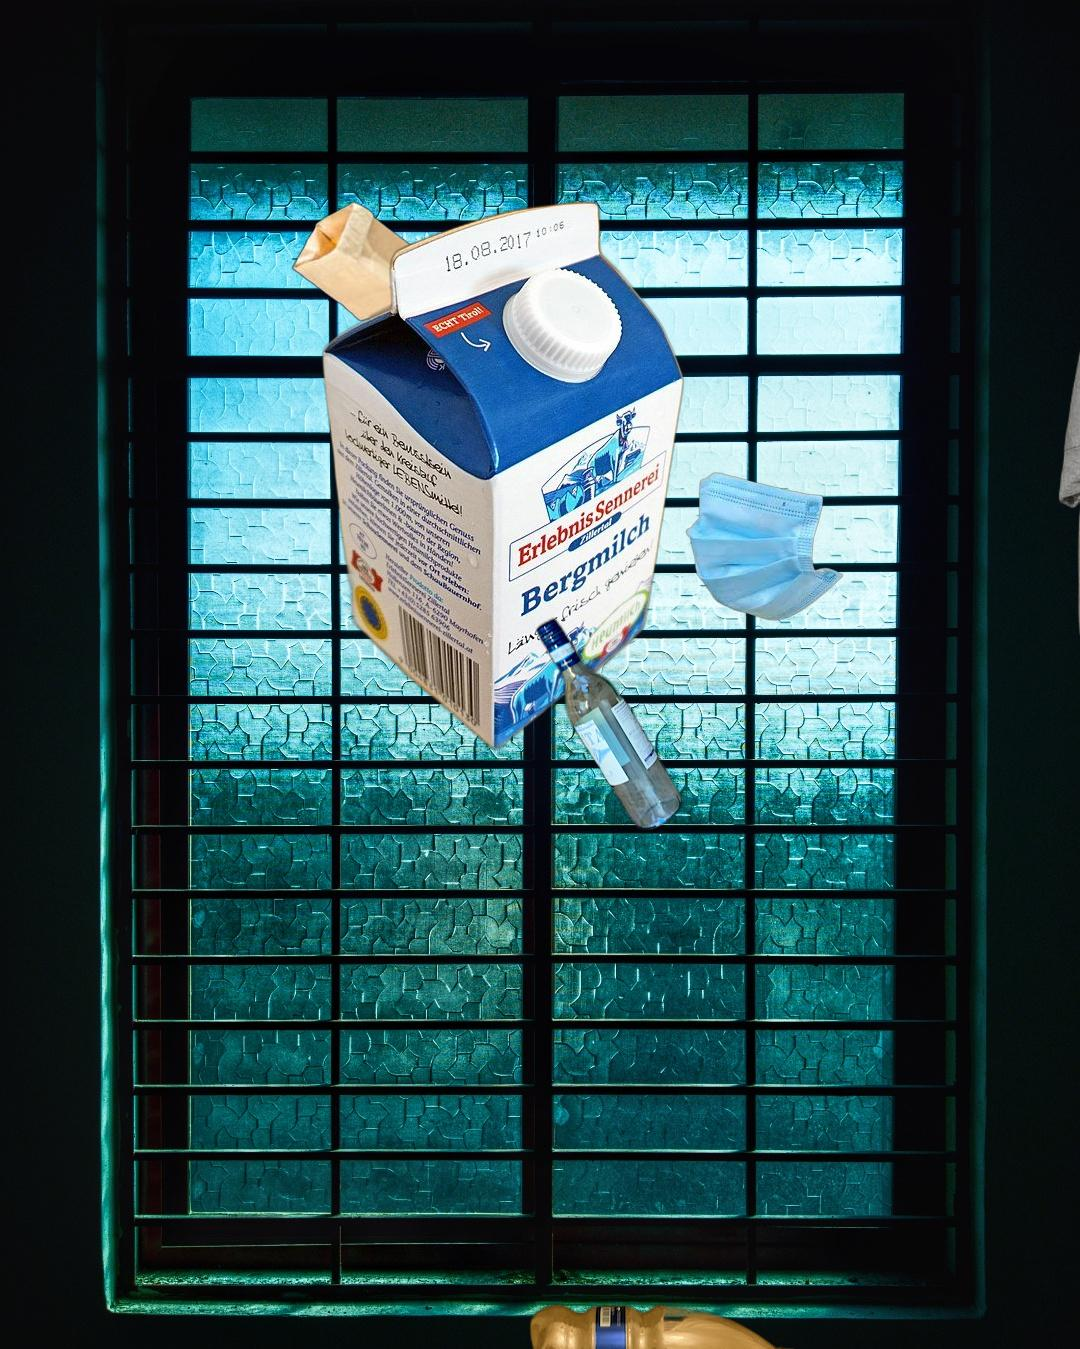clothes: (1055, 154, 1080, 655)
glass: (533, 613, 687, 837)
metal-cans: (417, 409, 523, 561)
paper-bag: (290, 199, 544, 447)
plastic-bottles: (523, 1301, 802, 1349)
trash: (683, 470, 846, 623)
trashbox-cardboard: (318, 197, 688, 755)
